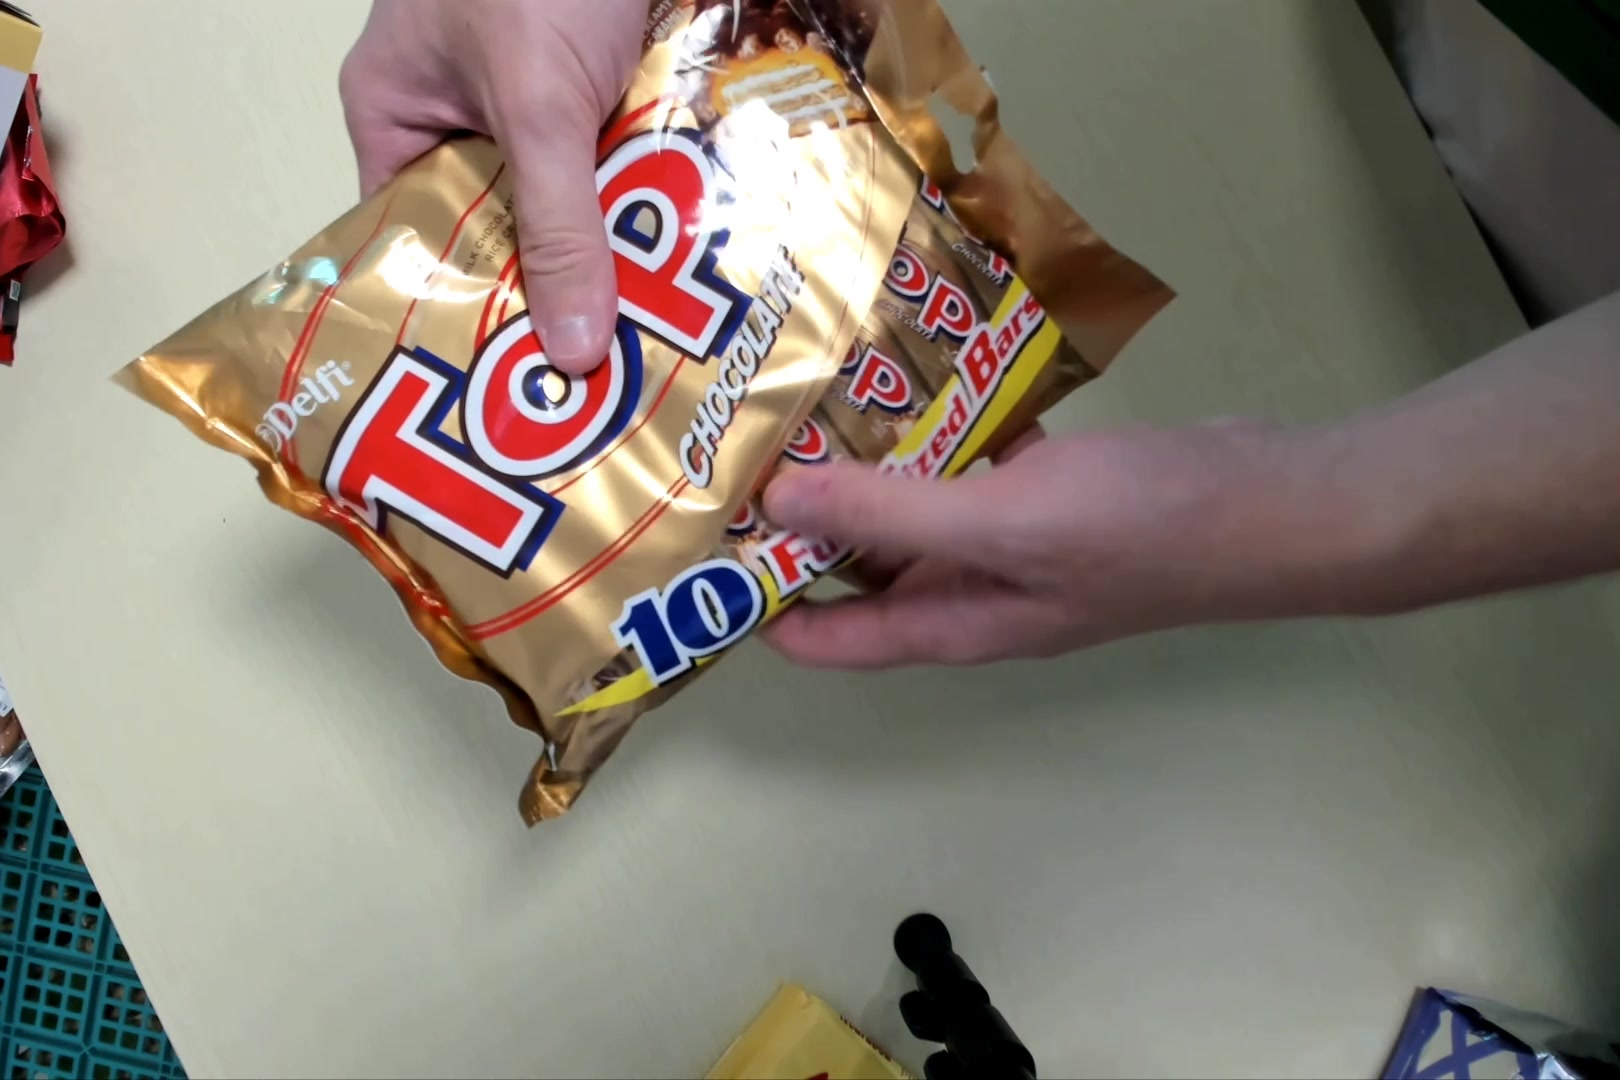SweetsChocolatesOthers_100-199g_NonHalal_NonHealthy: (110, 7, 1174, 820)
